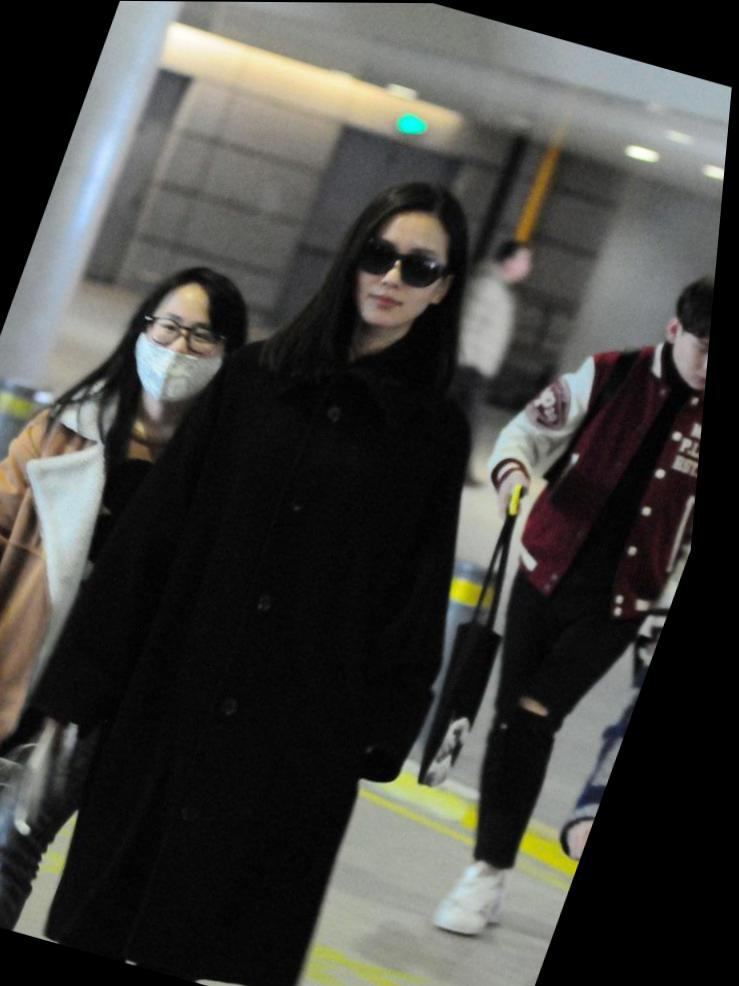NONE: (346, 225, 465, 335), (677, 317, 717, 397)
WRONG: (129, 296, 245, 406)
